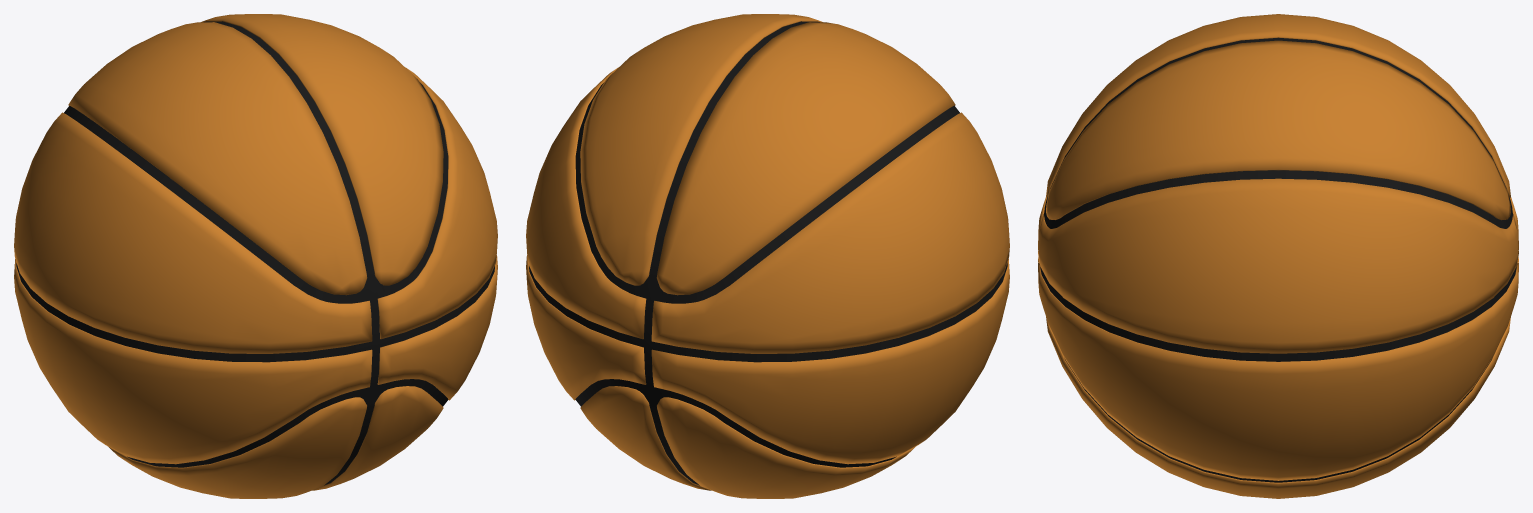
Rendered from Basketball_2.fbx.
3 views of the same model, side by side, from view 1: azimuth 30°, elevation 25°; view 2: azimuth 150°, elevation 25°; view 3: azimuth 270°, elevation 25° (orthographic).
Visible parts, largest first — view 1: leather, seam; view 2: leather, seam; view 3: leather, seam.
Part boxes in pixels (<box>): leather: <box>14,14,497,498</box>; seam: <box>16,21,494,485</box>; leather: <box>526,14,1009,498</box>; seam: <box>529,21,1007,485</box>; leather: <box>1038,14,1518,498</box>; seam: <box>1039,37,1517,482</box>.
Bounding box in the file's own units: 187 × 187 × 186.
